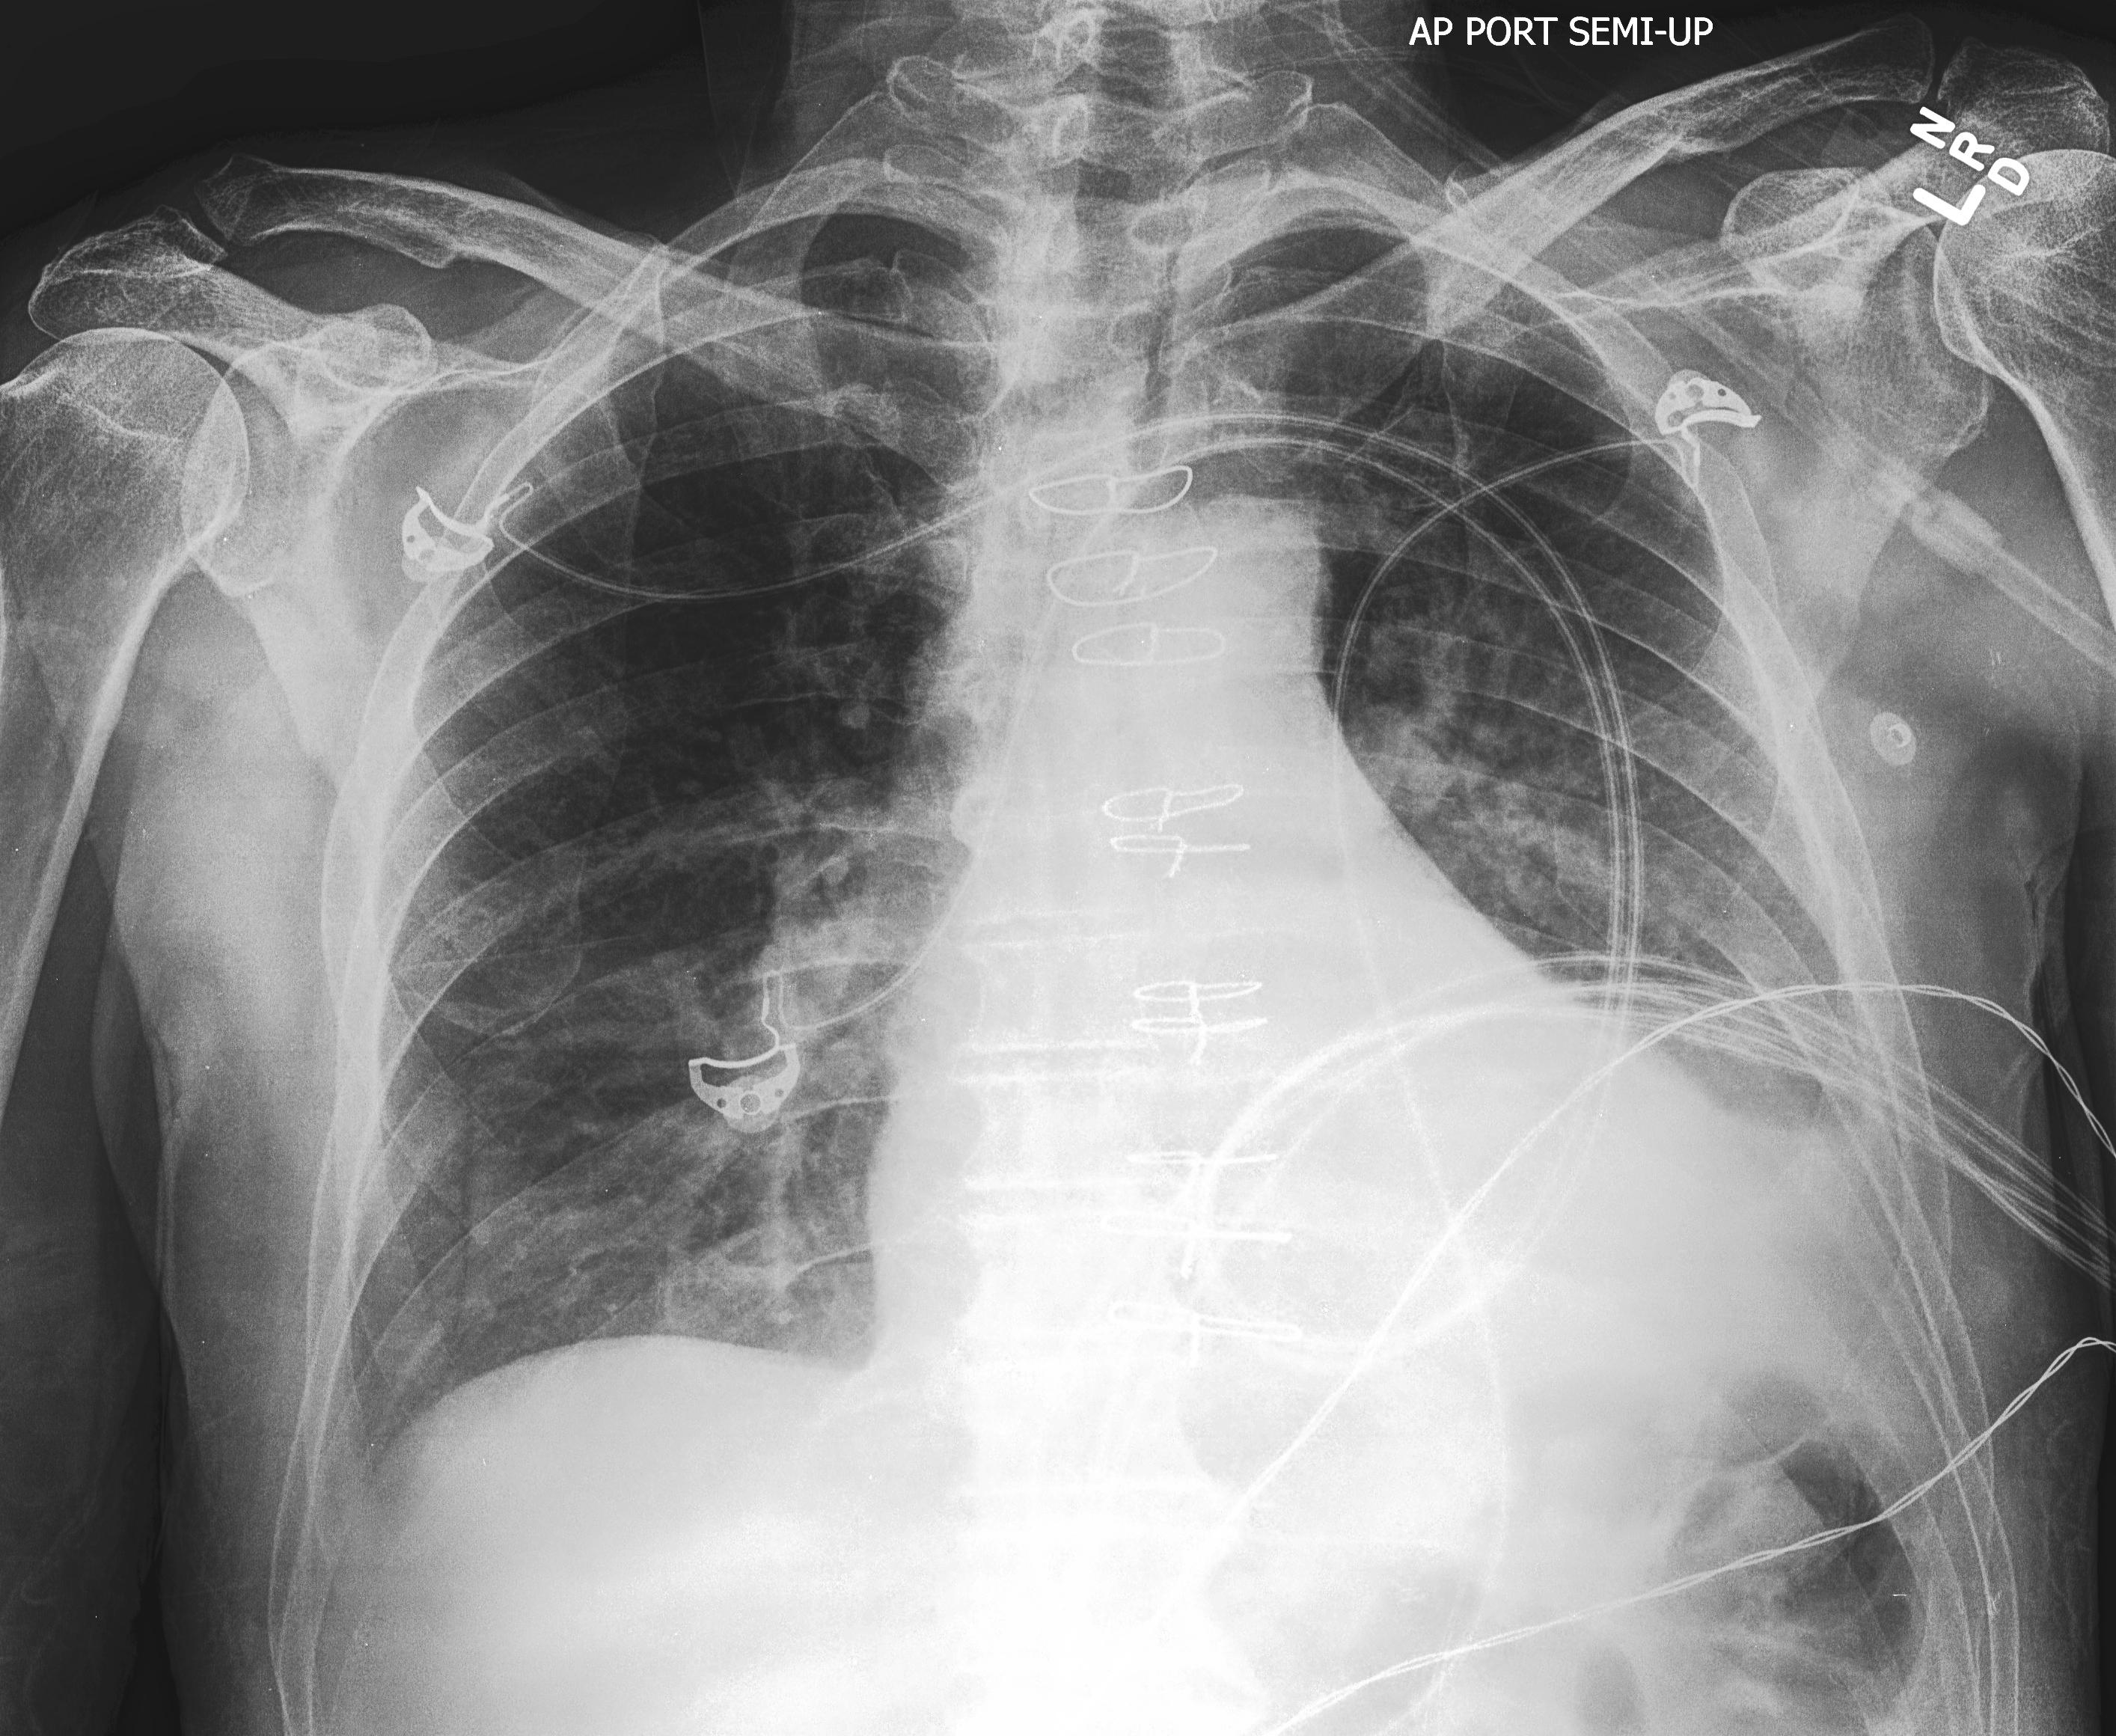Pleural Effusion: (1538, 1005, 1977, 1469)
